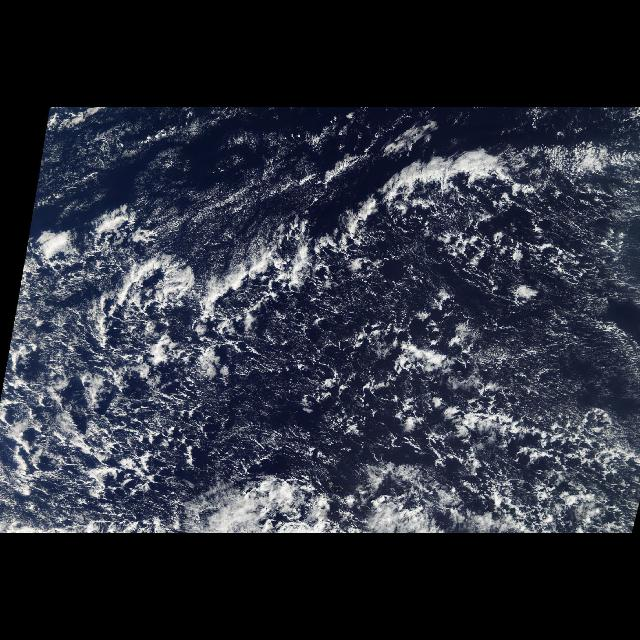Fish: (345, 138, 639, 228)
Gravel: (30, 247, 630, 529)
Sugar: (48, 110, 348, 234), (511, 284, 633, 418)
